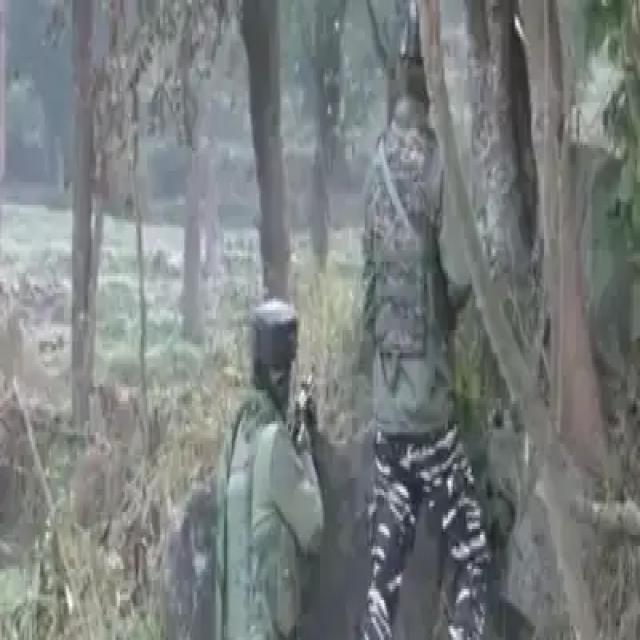Forest: (0, 3, 640, 639)
Militant: (352, 6, 495, 640), (215, 292, 328, 635)
